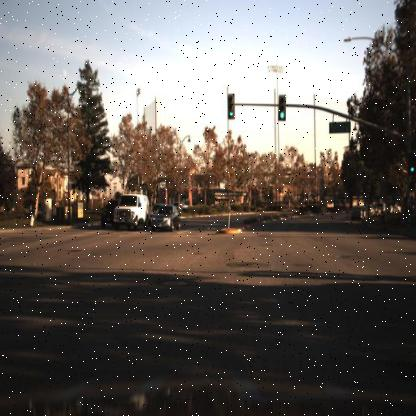car: (113, 193, 149, 231), (151, 201, 181, 231), (101, 196, 116, 228), (350, 202, 364, 223)
trafficLight: (275, 91, 291, 122), (227, 90, 237, 120)
